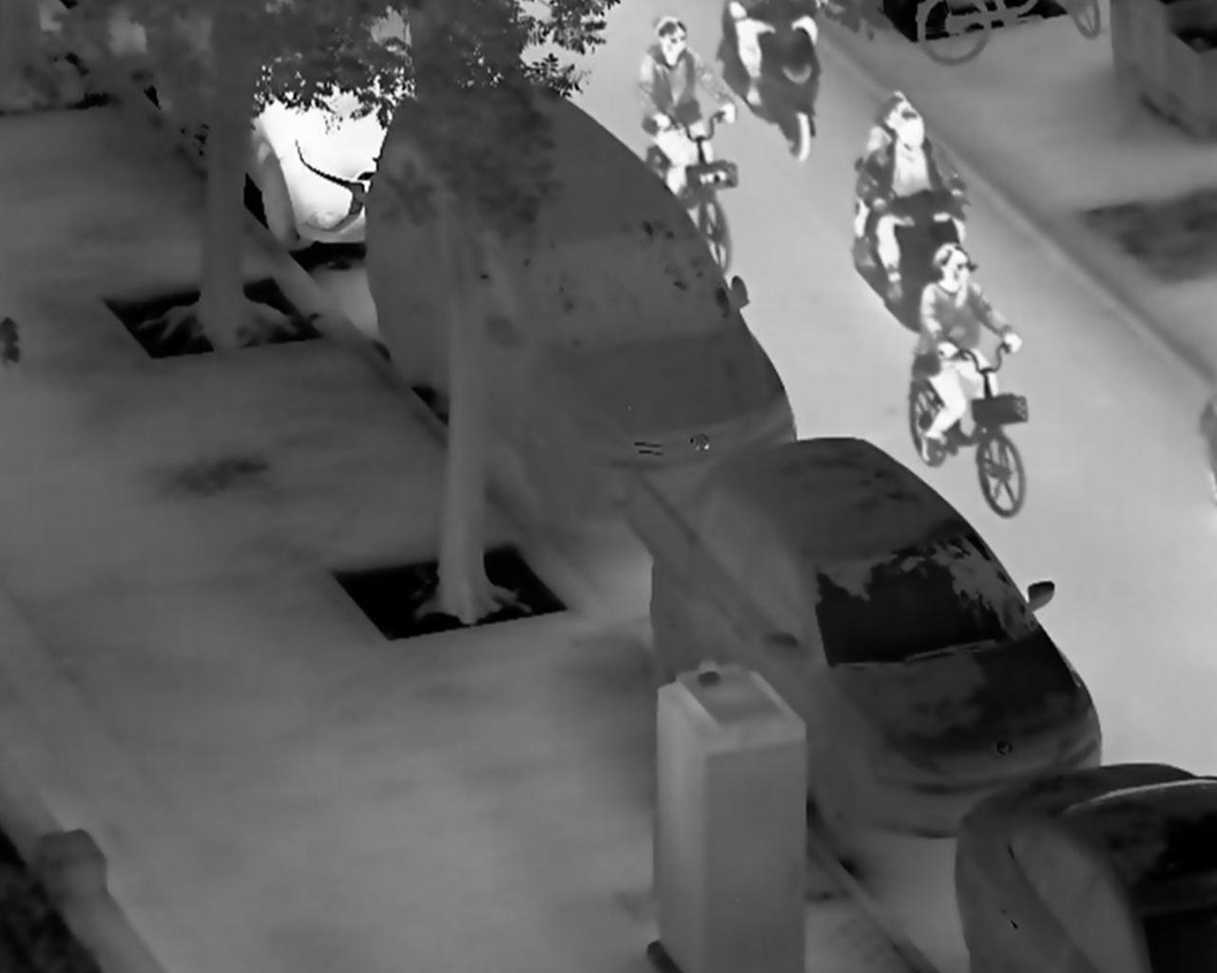person: (918, 241, 1027, 467), (857, 105, 976, 305), (634, 15, 741, 199)
